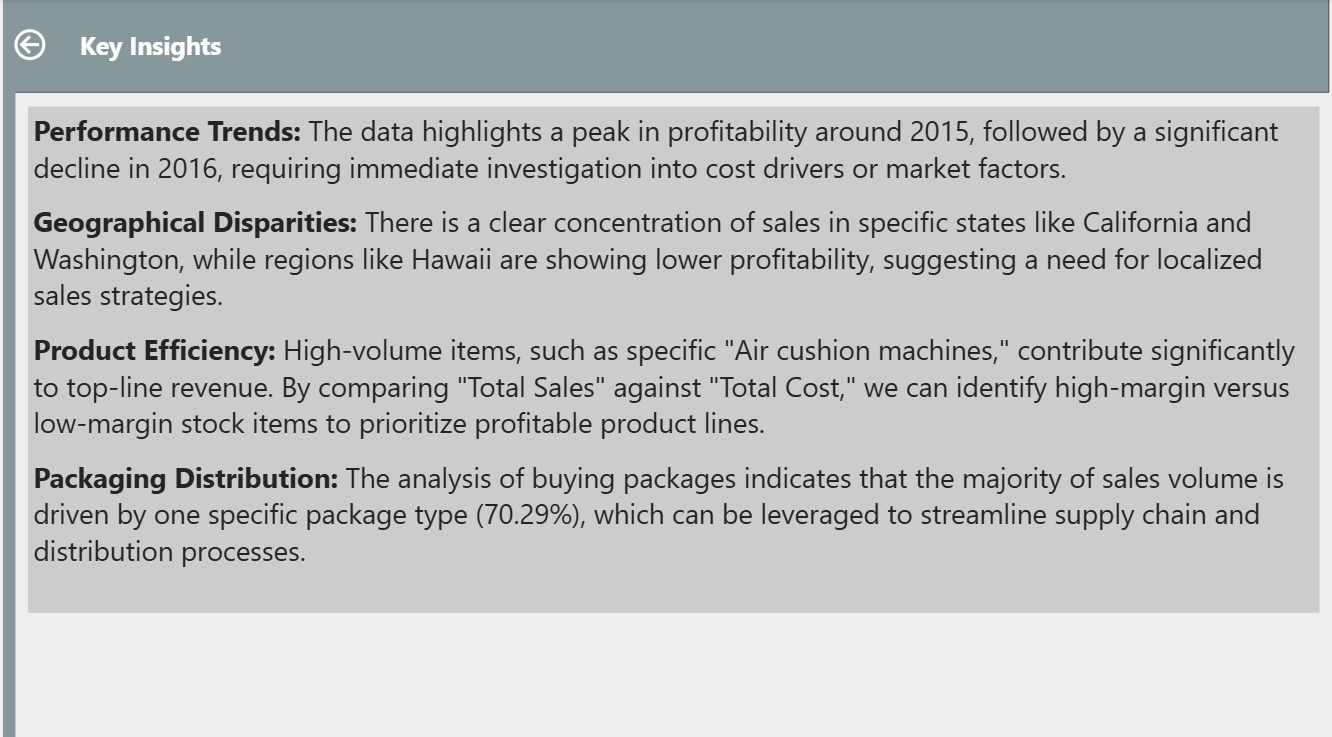

This screenshot's page, from the dashboard's own definition file:
{"tool":"powerbi","page":{"name":"Key Insights","canvas":[1280,720],"ordinal":5},"visuals":[{"type":"shape","box":[0,0,1280,90.5],"z":0},{"type":"shape","box":[0,0,12.3,720.4],"z":1000},{"type":"textbox","box":[32.6,24.1,219.6,45.8],"z":2000},{"type":"textbox","box":[24.1,103.8,1246.3,488.6],"z":3000},{"type":"actionButton","box":[6,24.1,100.1,39.8],"z":4000}]}

Visuals, with their boxes in screenshot pixels (x1, y1, x2, y2), scaled from the page's 1280x720 canvas onto the 1332x737 screenshot:
shape: bbox(0, 0, 1331, 93)
shape: bbox(0, 0, 13, 736)
textbox: bbox(34, 25, 262, 72)
textbox: bbox(25, 106, 1322, 606)
actionButton: bbox(6, 25, 110, 65)
